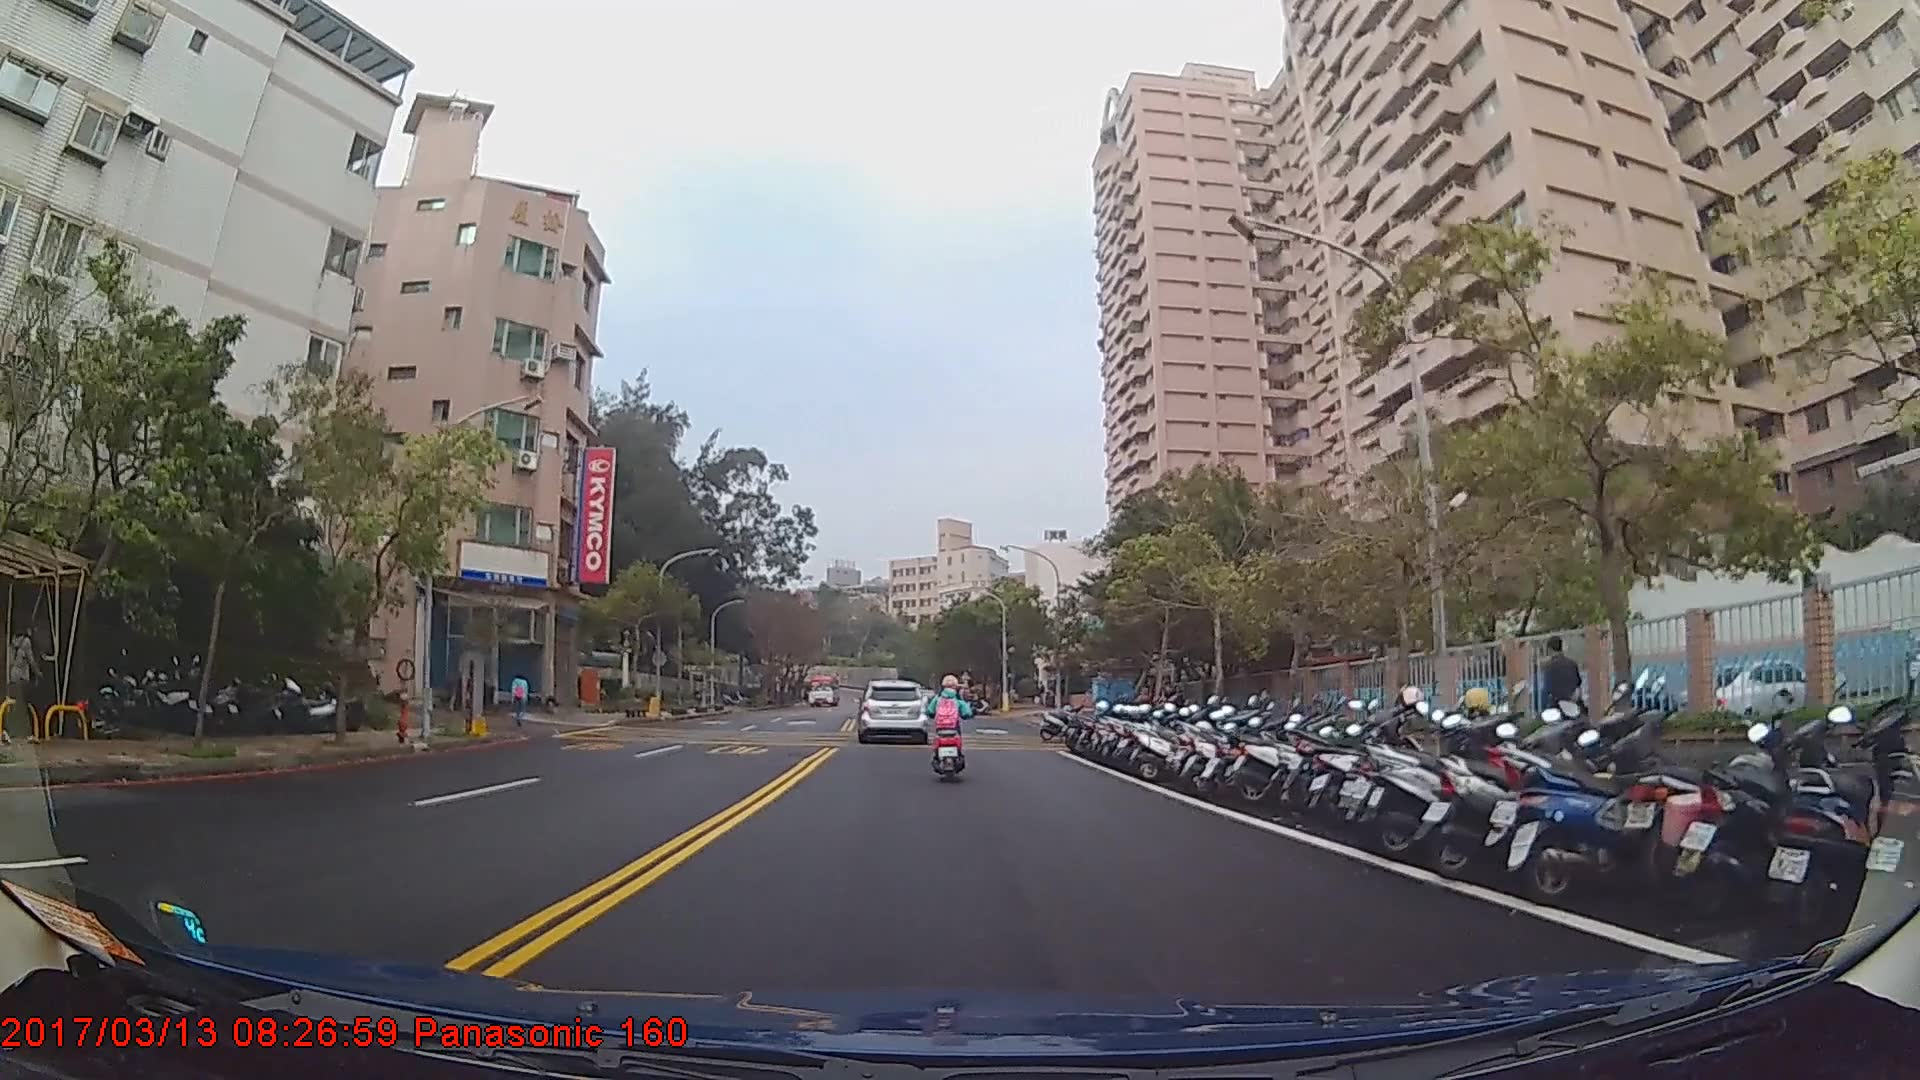pedestrian: (1536, 635, 1583, 772), (1, 615, 45, 744), (510, 668, 531, 728)
rider: (929, 672, 976, 785)
vehicle: (857, 675, 929, 743), (803, 672, 840, 710)
